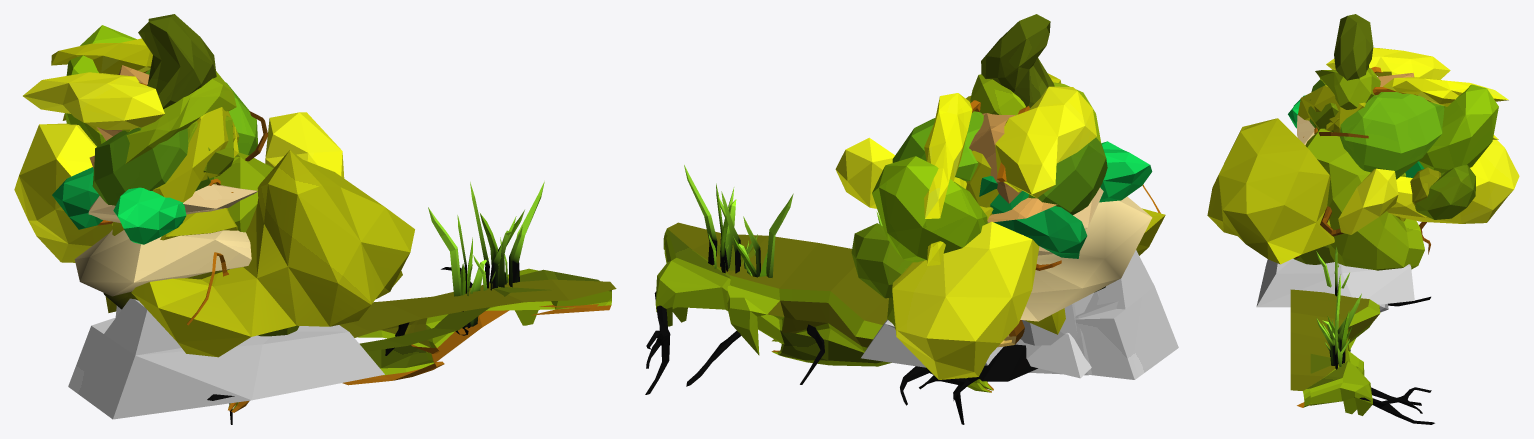
File: nature-props.glb
3 views of the same model, side by side, from view 1: azimuth 30°, elevation 25°; view 2: azimuth 150°, elevation 25°; view 3: azimuth 270°, elevation 25° (orthographic). The views are drawn at different scales.
Parts seen in each view (by area): view 1: EA02_Env_Tree_05d, EA03_PL_Rock_Flat_01b, EA02_Env_Grass_Mane_01a, EA02_Env_Tree_06c, EA02_Env_Tree_05a, EA02_Env_Tree_07a, EA02_Env_Tree_06b, EA02_Env_Tree_03b, EA02_Env_Grass_Mane_01b, EA02_Env_Tree_04a; view 2: EA02_Env_Grass_Mane_01a, EA02_Env_Tree_06b, EA02_Env_Tree_05a, EA02_Env_Tree_03b, EA02_Env_Grass_Mane_01b, EA02_Env_Tree_07a, EA03_PL_Rock_Flat_01b, EA02_Env_Tree_06c, EA02_Env_Tree_04a, EA02_Env_Tree_05d, EA01_Env_Rock_01b, EA01_Env_Rock_01c (+2 smaller); view 3: EA02_Env_Tree_06b, EA02_Env_Tree_05d, EA02_Env_Grass_Mane_01a, EA02_Env_Tree_05a, EA03_PL_Rock_Flat_01b, EA02_Env_Tree_06c, EA02_Env_Tree_03b, EA02_Env_Grass_Mane_01b, EA02_Env_Tree_06a, EA02_Env_Tree_07a, EA02_Env_Tree_04a.
Part boxes in pixels (<box>): EA02_Env_Tree_05d: <box>105,112,414,357</box>; EA03_PL_Rock_Flat_01b: <box>68,298,384,419</box>; EA02_Env_Grass_Mane_01a: <box>228,181,616,424</box>; EA02_Env_Tree_06c: <box>103,14,237,400</box>; EA02_Env_Tree_05a: <box>14,107,239,262</box>; EA02_Env_Tree_07a: <box>74,65,257,296</box>; EA02_Env_Tree_06b: <box>65,25,273,325</box>; EA02_Env_Tree_03b: <box>23,38,268,161</box>; EA02_Env_Grass_Mane_01b: <box>231,210,599,412</box>; EA02_Env_Tree_04a: <box>52,167,186,244</box>; EA02_Env_Grass_Mane_01a: <box>663,165,991,424</box>; EA02_Env_Tree_06b: <box>851,111,1160,381</box>; EA02_Env_Tree_05a: <box>892,221,1061,379</box>; EA02_Env_Tree_03b: <box>924,86,1096,265</box>; EA02_Env_Grass_Mane_01b: <box>645,183,993,405</box>; EA02_Env_Tree_07a: <box>969,113,1152,321</box>; EA03_PL_Rock_Flat_01b: <box>861,250,1178,379</box>; EA02_Env_Tree_06c: <box>970,14,1105,292</box>; EA02_Env_Tree_04a: <box>979,141,1152,258</box>; EA02_Env_Tree_05d: <box>835,73,1165,347</box>; EA01_Env_Rock_01b: <box>1027,333,1091,378</box>; EA01_Env_Rock_01c: <box>1020,303,1077,345</box>; EA02_Env_Tree_06b: <box>1303,79,1498,270</box>; EA02_Env_Tree_05d: <box>1207,118,1405,264</box>; EA02_Env_Grass_Mane_01a: <box>1290,246,1388,414</box>; EA02_Env_Tree_05a: <box>1298,85,1519,254</box>; EA03_PL_Rock_Flat_01b: <box>1256,258,1414,307</box>; EA02_Env_Tree_06c: <box>1308,14,1380,132</box>; EA02_Env_Tree_03b: <box>1318,47,1508,139</box>; EA02_Env_Grass_Mane_01b: <box>1307,296,1434,424</box>; EA02_Env_Tree_06a: <box>1293,167,1440,264</box>; EA02_Env_Tree_07a: <box>1297,73,1414,145</box>; EA02_Env_Tree_04a: <box>1288,95,1424,177</box>.
Bounding box in the file's own units: 22.66 × 18.18 × 17.22.
Materials: 2 (2 with a texture image).
